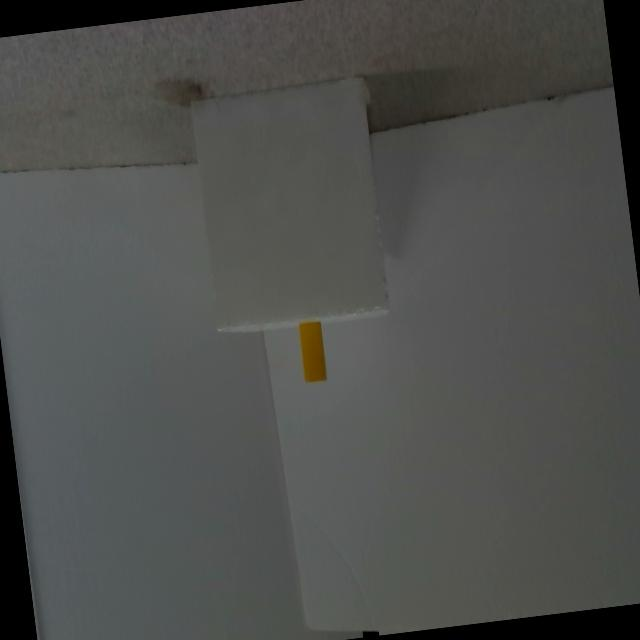yellow_cylinder: (298, 321, 327, 383)
